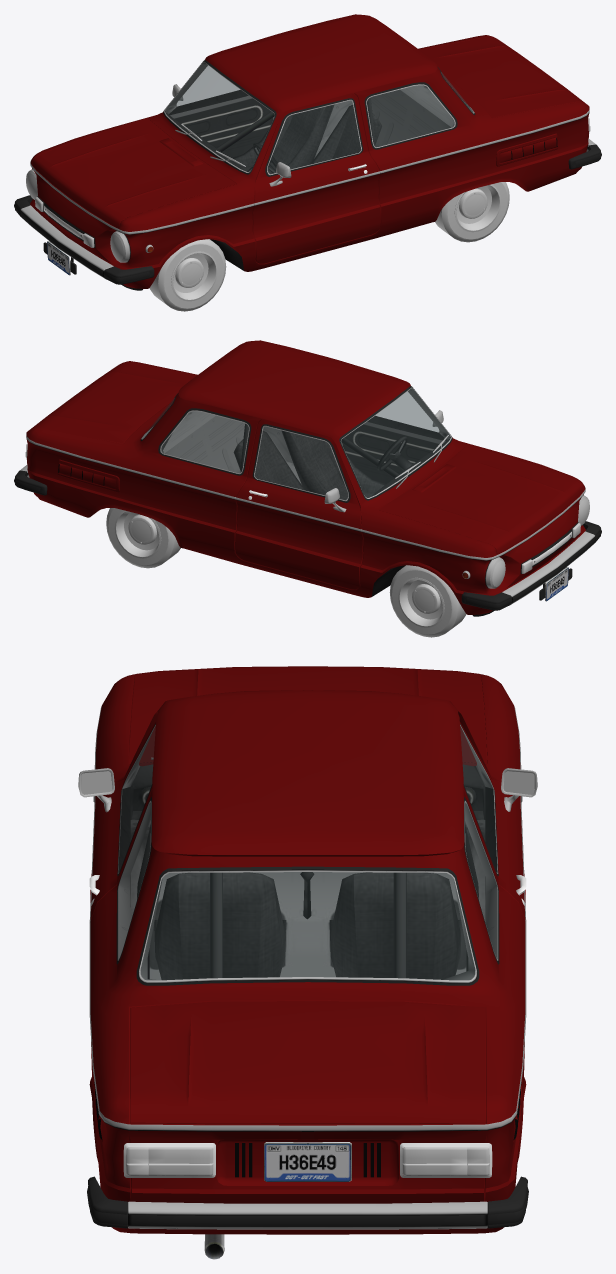
The model's file is zaz_968.fbx.
3 views of the same model, one above another, from view 1: azimuth 30°, elevation 25°; view 2: azimuth 150°, elevation 25°; view 3: azimuth 270°, elevation 25° (orthographic). The views are drawn at different scales.
Parts seen in each view (by area): view 1: Ukrainer79Custom_body, Ukrainer79Custom_interior, Ukrainer79Custom_Hood, Ukrainer79Custom_Bodyglass, Ukrainer79Custom_Bottom, Ukrainer79Custom_Trunkdoor, Ukrainer79Custom_Windshield, Ukrainer79Custom_Wheel_FL, Ukrainer79Custom_Wheel_RL, Ukrainer79Custom_Bumper_Front, Ukrainer79Custom_Bumper_Rear, Ukrainer79Custom_Headlights (+1 smaller); view 2: Ukrainer79Custom_body, Ukrainer79Custom_interior, Ukrainer79Custom_Hood, Ukrainer79Custom_Bodyglass, Ukrainer79Custom_Trunkdoor, Ukrainer79Custom_Bottom, Ukrainer79Custom_Windshield, Ukrainer79Custom_Wheel_FR, Ukrainer79Custom_Wheel_RR, Ukrainer79Custom_Bumper_Front, Ukrainer79Custom_Bumper_Rear, Ukrainer79Custom_Headlights (+1 smaller); view 3: Ukrainer79Custom_body, Ukrainer79Custom_Trunkdoor, Ukrainer79Custom_interior, Ukrainer79Custom_Rear_Glass, Ukrainer79Custom_Bottom, Ukrainer79Custom_Bumper_Rear, Ukrainer79Custom_Hood, Ukrainer79Custom_Bodyglass, Ukrainer79Custom_Numberplate_rear, Ukrainer79Custom_Backlights, Ukrainer79Custom_Blinkers.
Boxes of the visible parts, x1=… form: Ukrainer79Custom_body: x1=30, y1=14, x2=589, y2=288; Ukrainer79Custom_interior: x1=165, y1=62, x2=473, y2=174; Ukrainer79Custom_Hood: x1=32, y1=118, x2=236, y2=228; Ukrainer79Custom_Bodyglass: x1=177, y1=66, x2=454, y2=173; Ukrainer79Custom_Bottom: x1=26, y1=60, x2=589, y2=290; Ukrainer79Custom_Trunkdoor: x1=420, y1=36, x2=585, y2=117; Ukrainer79Custom_Windshield: x1=165, y1=62, x2=274, y2=171; Ukrainer79Custom_Wheel_FL: x1=149, y1=239, x2=226, y2=311; Ukrainer79Custom_Wheel_RL: x1=435, y1=182, x2=509, y2=242; Ukrainer79Custom_Bumper_Front: x1=14, y1=195, x2=154, y2=284; Ukrainer79Custom_Bumper_Rear: x1=568, y1=139, x2=601, y2=169; Ukrainer79Custom_Headlights: x1=26, y1=173, x2=123, y2=260; Ukrainer79Custom_body: x1=26, y1=340, x2=585, y2=614; Ukrainer79Custom_interior: x1=142, y1=388, x2=450, y2=500; Ukrainer79Custom_Hood: x1=379, y1=444, x2=583, y2=554; Ukrainer79Custom_Bodyglass: x1=161, y1=392, x2=438, y2=499; Ukrainer79Custom_Trunkdoor: x1=30, y1=362, x2=195, y2=443; Ukrainer79Custom_Bottom: x1=26, y1=386, x2=589, y2=616; Ukrainer79Custom_Windshield: x1=341, y1=388, x2=450, y2=497; Ukrainer79Custom_Wheel_FR: x1=389, y1=565, x2=466, y2=637; Ukrainer79Custom_Wheel_RR: x1=106, y1=508, x2=180, y2=568; Ukrainer79Custom_Bumper_Front: x1=461, y1=521, x2=601, y2=610; Ukrainer79Custom_Bumper_Rear: x1=14, y1=465, x2=47, y2=495; Ukrainer79Custom_Headlights: x1=492, y1=499, x2=589, y2=586; Ukrainer79Custom_body: x1=89, y1=674, x2=526, y2=1234; Ukrainer79Custom_Trunkdoor: x1=130, y1=1001, x2=485, y2=1124; Ukrainer79Custom_interior: x1=118, y1=728, x2=497, y2=980; Ukrainer79Custom_Rear_Glass: x1=141, y1=872, x2=474, y2=979; Ukrainer79Custom_Bottom: x1=78, y1=706, x2=537, y2=1259; Ukrainer79Custom_Bumper_Rear: x1=87, y1=1176, x2=528, y2=1229; Ukrainer79Custom_Hood: x1=128, y1=666, x2=487, y2=764; Ukrainer79Custom_Bodyglass: x1=118, y1=726, x2=497, y2=958; Ukrainer79Custom_Numberplate_rear: x1=264, y1=1142, x2=351, y2=1181; Ukrainer79Custom_Backlights: x1=148, y1=1147, x2=467, y2=1176; Ukrainer79Custom_Blinkers: x1=126, y1=1147, x2=489, y2=1176.
Size of the model in its own units: 3750 by 1292 by 1506.
